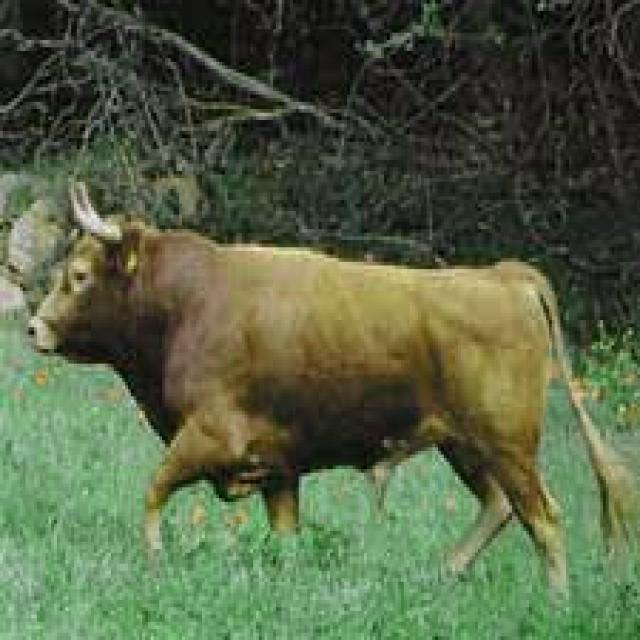cow: (30, 182, 640, 588)
